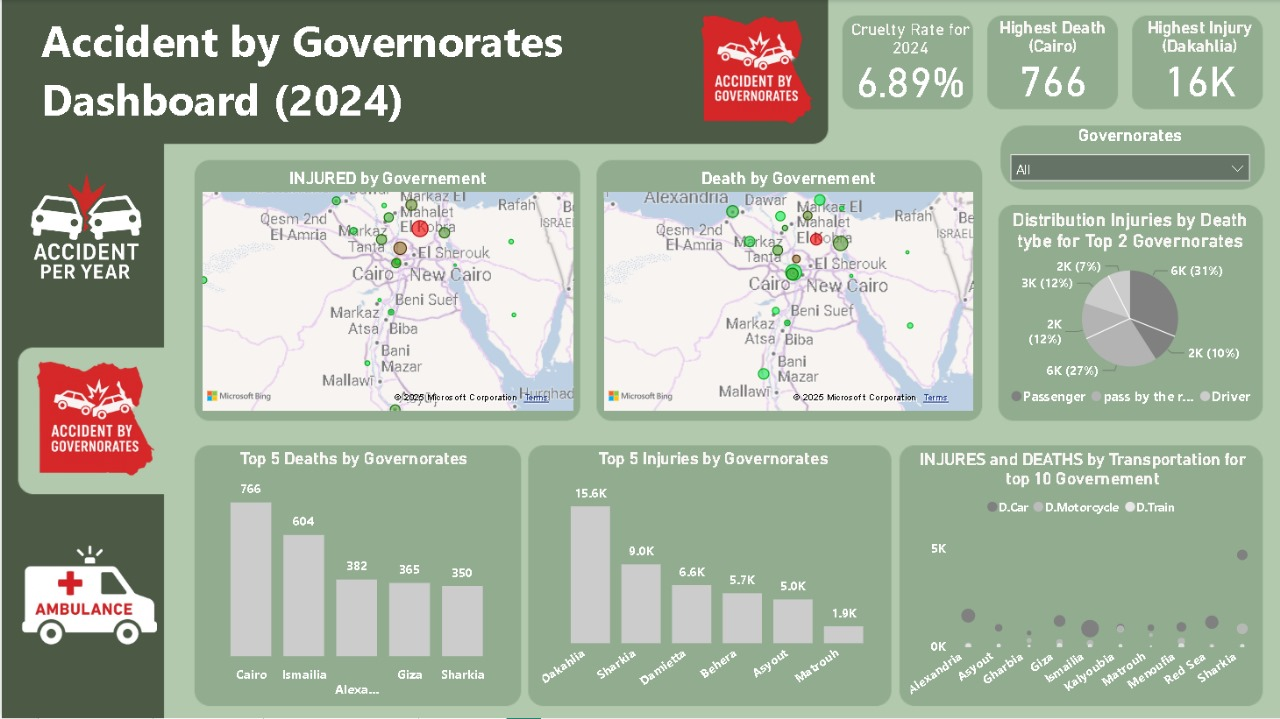

This screenshot's page, from the dashboard's own definition file:
{"tool":"powerbi","page":{"name":"Accident by Governorates","canvas":[1280,720],"ordinal":2},"visuals":[{"type":"textbox","box":[34.2,5.3,754.2,138.7],"z":0},{"type":"image","box":[683.1,0,152.8,150.1],"z":1000},{"type":"image","box":[0,515.5,175.1,172.2],"z":2000},{"type":"image","box":[12.6,347.2,169.2,156.6],"z":3000},{"type":"image","box":[0,144,169.2,170.2],"z":4000},{"type":"card","title":"Cruelty Rate for 2024","fields":{"Values":["measure.Cruelty Rate for 2024"]},"box":[838.3,8.3,142.8,110.7],"z":5000},{"type":"card","title":"Highest Death (Cairo)","fields":{"Values":["measure.sum of cairo death"]},"box":[983.8,0,138.6,119.7],"z":6000},{"type":"card","title":"Highest Injury (Dakahlia)","fields":{"Values":["measure.sum of dakahlia"]},"box":[1129.7,0,139.3,119],"z":7000},{"type":"map","title":"INJURED by Governement","fields":{"Category":["INJURED GOV MONTHS.Governement"],"Size":["Sum(INJURED GOV MONTHS.INJURED)"]},"box":[195.5,168.3,382.2,248],"z":8000},{"type":"map","title":"Death by Governement","fields":{"Category":["INJURED GOV MONTHS.Governement"],"Size":["Sum(INJURED GOV MONTHS.Death)"]},"box":[598.2,168.2,380,248.2],"z":9000},{"type":"scatterChart","title":"INJURES and DEATHS by Transportation for top 10 Governement","fields":{"X":["transopotation.govenement"],"Series":["transopotation.transportation"],"Y":["Sum(transopotation.INJURED)"],"Size":["Sum(transopotation.DEAD )"]},"box":[905.3,450.4,354.7,263.4],"z":10000},{"type":"columnChart","title":"Top 5 Injuries by Governorates","fields":{"Category":["AGE GOV.Governement"],"Y":["Sum(AGE GOV.INJURED)"]},"box":[536.4,450,352.7,257.3],"z":11000},{"type":"columnChart","title":"Top 5 Deaths by Governorates","fields":{"Category":["AGE GOV.Governement"],"Y":["Sum(AGE GOV.DEAD)"]},"box":[195.5,450,313.6,257.3],"z":12000},{"type":"slicer","title":"Governorates","fields":{"Values":["AGE GOV.Governement"]},"box":[1000.1,125.6,259.9,60.6],"z":13000},{"type":"pieChart","title":"Distribution Injuries by Death tybe for Top 2 Governorates","fields":{"Category":["Death tybe per gov.Role "],"Y":["Sum(Death tybe per gov.INJURED)"],"Series":["Death tybe per gov.Governement"]},"box":[999.9,210.1,259.7,206.2],"z":14000}]}

Visuals, with their boxes in screenshot pixels (x1, y1, x2, y2), scaled from the page's 1280x720 canvas onto the 1280x719 screenshot:
textbox: (left=34, top=5, right=788, bottom=144)
image: (left=683, top=0, right=836, bottom=150)
image: (left=0, top=515, right=175, bottom=687)
image: (left=13, top=347, right=182, bottom=503)
image: (left=0, top=144, right=169, bottom=314)
"Cruelty Rate for 2024" card: (left=838, top=8, right=981, bottom=119)
"Highest Death (Cairo)" card: (left=984, top=0, right=1122, bottom=120)
"Highest Injury (Dakahlia)" card: (left=1130, top=0, right=1269, bottom=119)
"INJURED by Governement" map: (left=196, top=168, right=578, bottom=416)
"Death by Governement" map: (left=598, top=168, right=978, bottom=416)
"INJURES and DEATHS by Transportation for top 10 Governement" scatterChart: (left=905, top=450, right=1260, bottom=713)
"Top 5 Injuries by Governorates" columnChart: (left=536, top=449, right=889, bottom=706)
"Top 5 Deaths by Governorates" columnChart: (left=196, top=449, right=509, bottom=706)
"Governorates" slicer: (left=1000, top=125, right=1260, bottom=186)
"Distribution Injuries by Death tybe for Top 2 Governorates" pieChart: (left=1000, top=210, right=1260, bottom=416)
